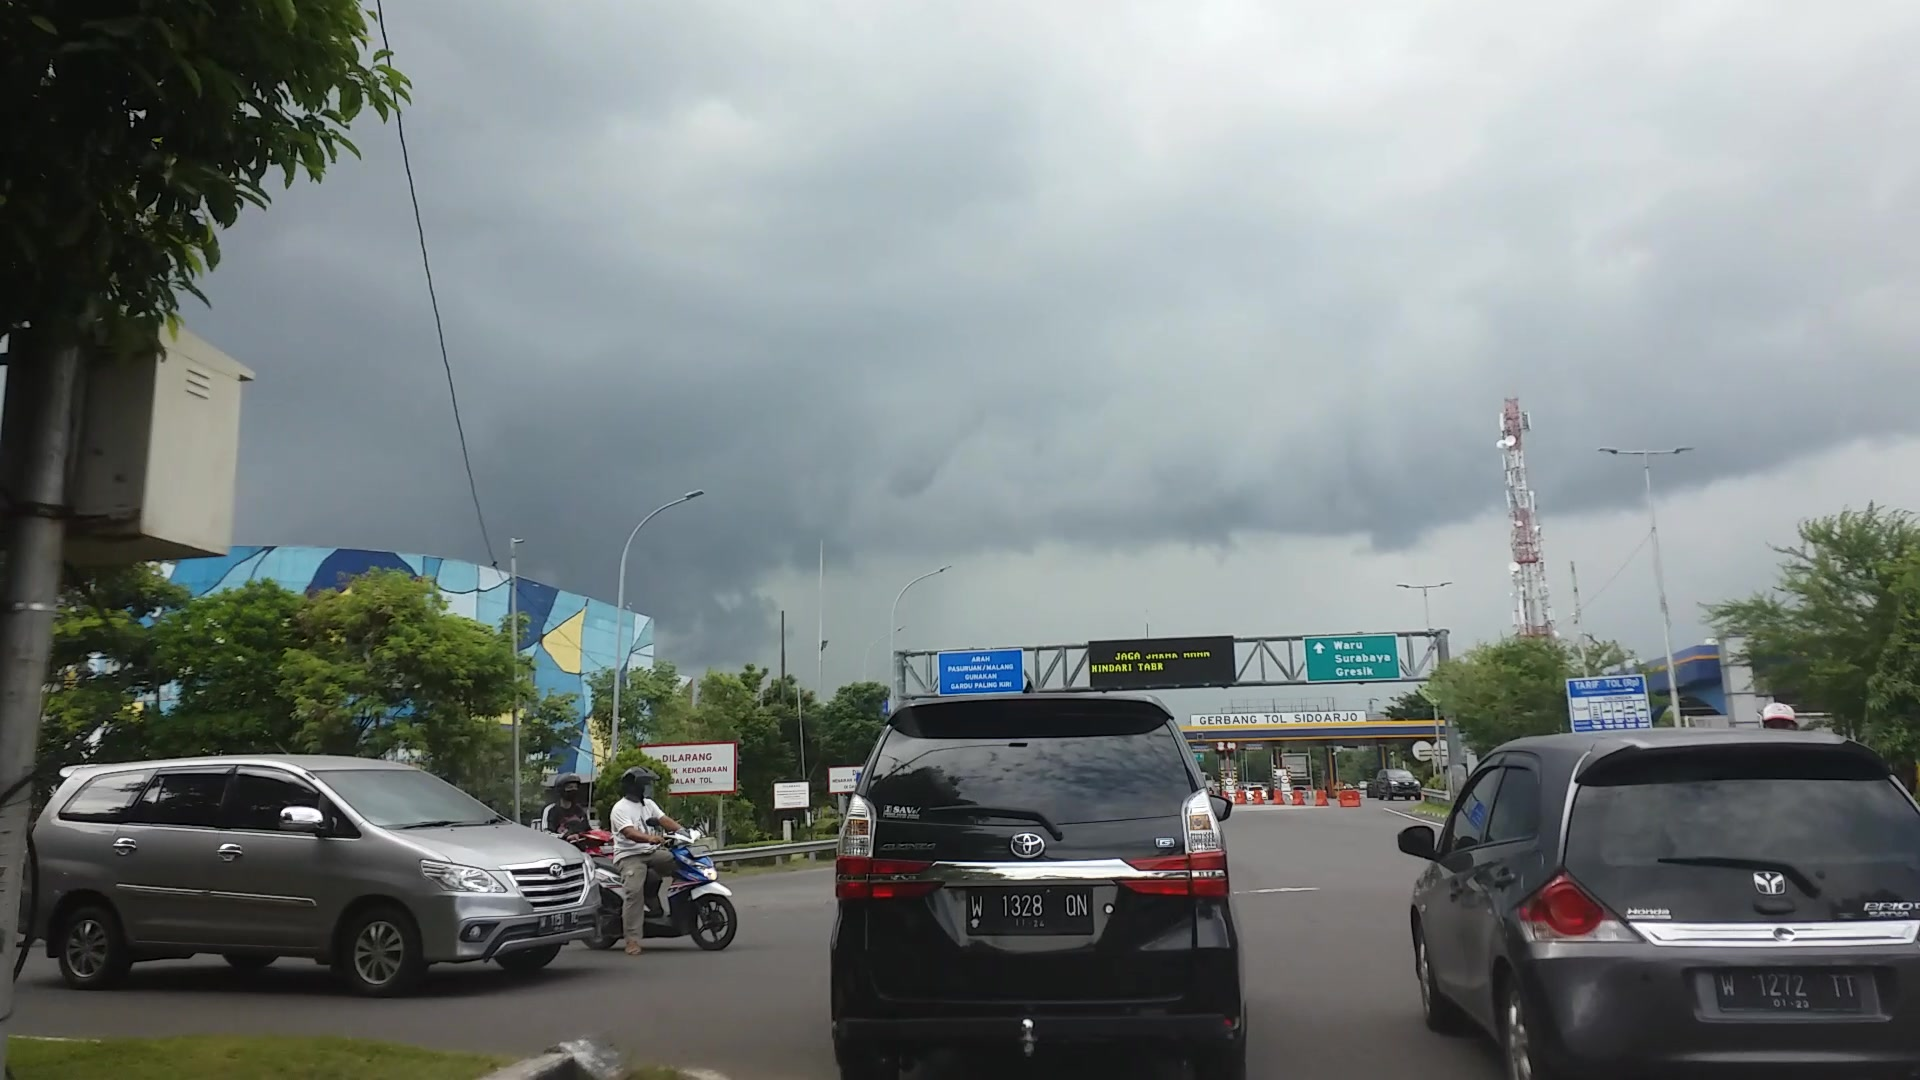plate_positive: (967, 886, 1095, 938), (1714, 971, 1861, 1013)
